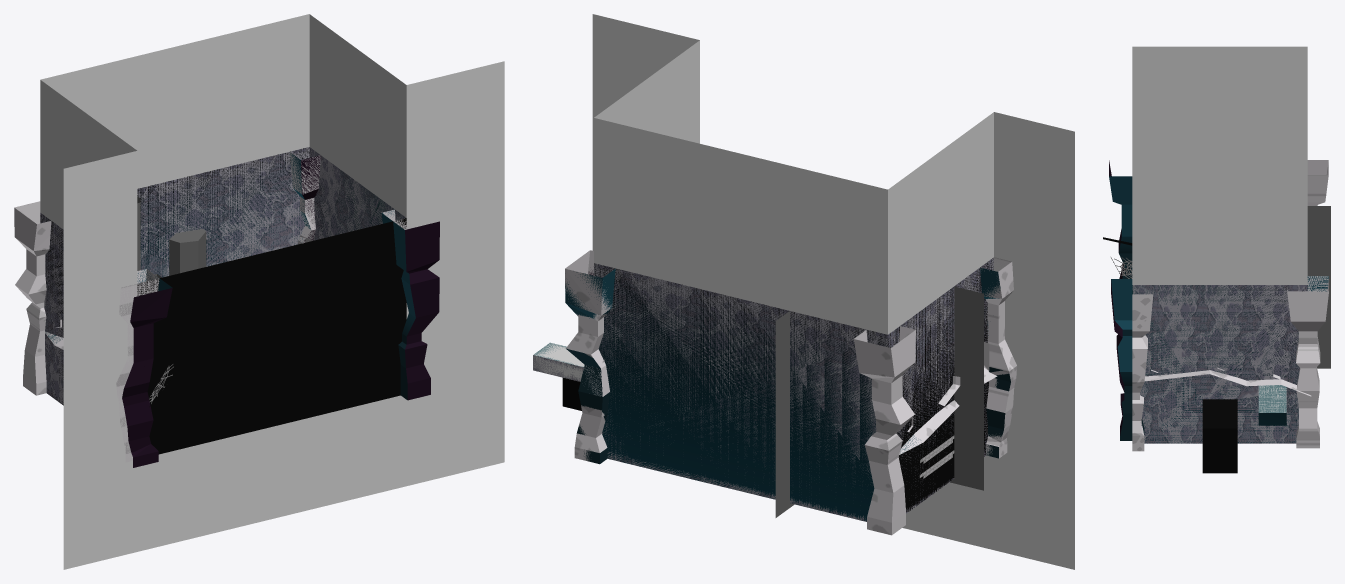
Rendered from jin_08.dae.
3 views of the same model, side by side, from view 1: azimuth 30°, elevation 25°; view 2: azimuth 150°, elevation 25°; view 3: azimuth 270°, elevation 25° (orthographic). The views are drawn at different scales.
Parts seen in each view (by area): view 1: MASUKU, a_gawa02, polySurface882_q00057_part0, a_hashira01, polySurface42_q00055, a_oumu_bo; view 2: MASUKU, a_gawa02, polySurface882_q00057_part0, polySurface42_q00055, a_gawa01, a_hashira01, polySurface876_q00056; view 3: MASUKU, polySurface882_q00057_part0, a_gawa02, polySurface42_q00055, a_hashira01, a_gawa01, polySurface882_q00057_part1, polySurface876_q00056.
Boxes of the visible parts, <box> form: MASUKU: <box>40,14,504,569</box>; a_gawa02: <box>40,147,406,454</box>; polySurface882_q00057_part0: <box>40,147,405,404</box>; a_hashira01: <box>122,152,439,467</box>; polySurface42_q00055: <box>14,152,412,462</box>; a_oumu_bo: <box>169,229,206,275</box>; MASUKU: <box>592,14,1074,569</box>; a_gawa02: <box>533,258,993,520</box>; polySurface882_q00057_part0: <box>533,257,993,521</box>; polySurface42_q00055: <box>565,250,1017,535</box>; a_gawa01: <box>775,286,983,517</box>; a_hashira01: <box>565,268,1010,464</box>; polySurface876_q00056: <box>602,341,997,454</box>; MASUKU: <box>1132,46,1307,284</box>; polySurface882_q00057_part0: <box>1132,285,1307,443</box>; a_gawa02: <box>1132,285,1307,473</box>; polySurface42_q00055: <box>1132,160,1328,451</box>; a_hashira01: <box>1109,160,1328,440</box>; a_gawa01: <box>1307,206,1330,368</box>; polySurface882_q00057_part1: <box>1258,385,1286,425</box>; polySurface876_q00056: <box>1144,351,1311,396</box>.
Size of the model in its own units: 65.57 by 56.97 by 32.53.
